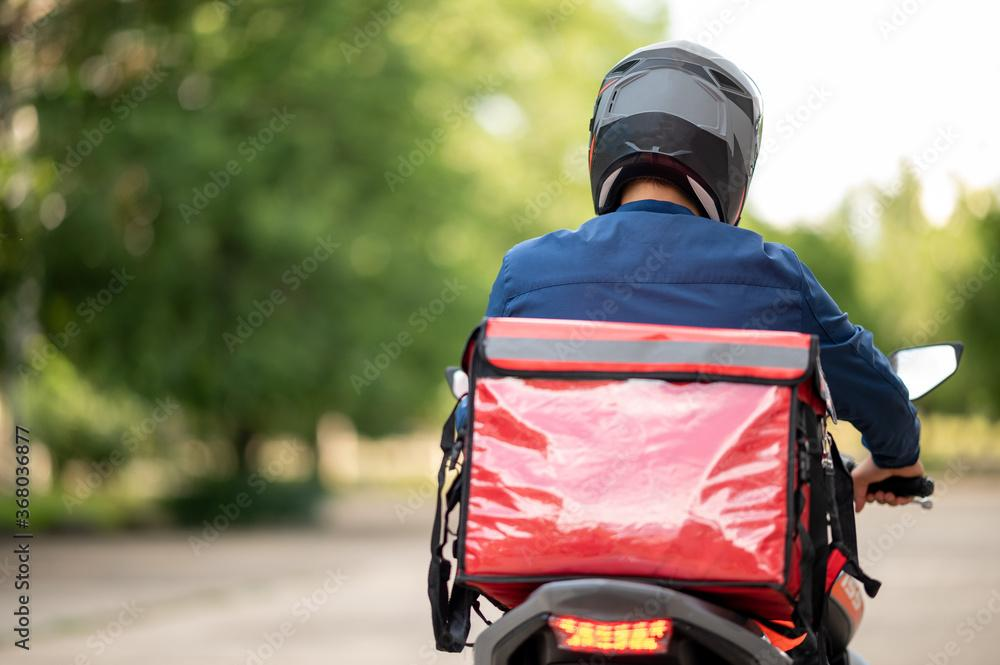helmet: (587, 38, 765, 236)
